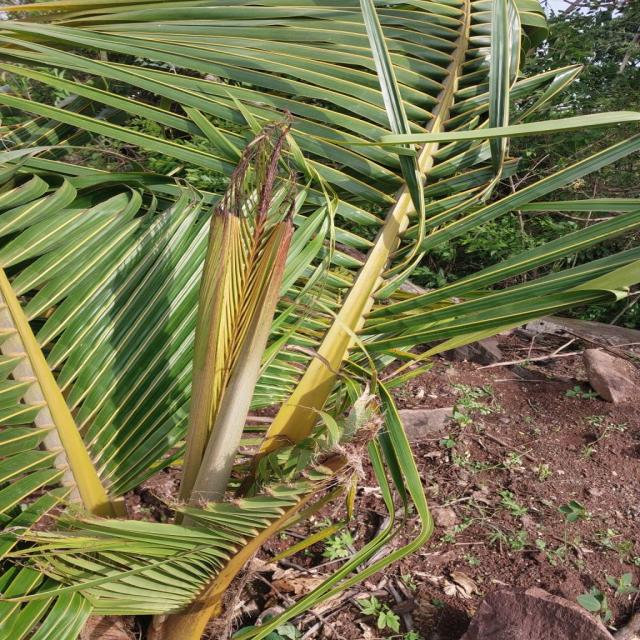bud rot: (180, 125, 297, 503)
